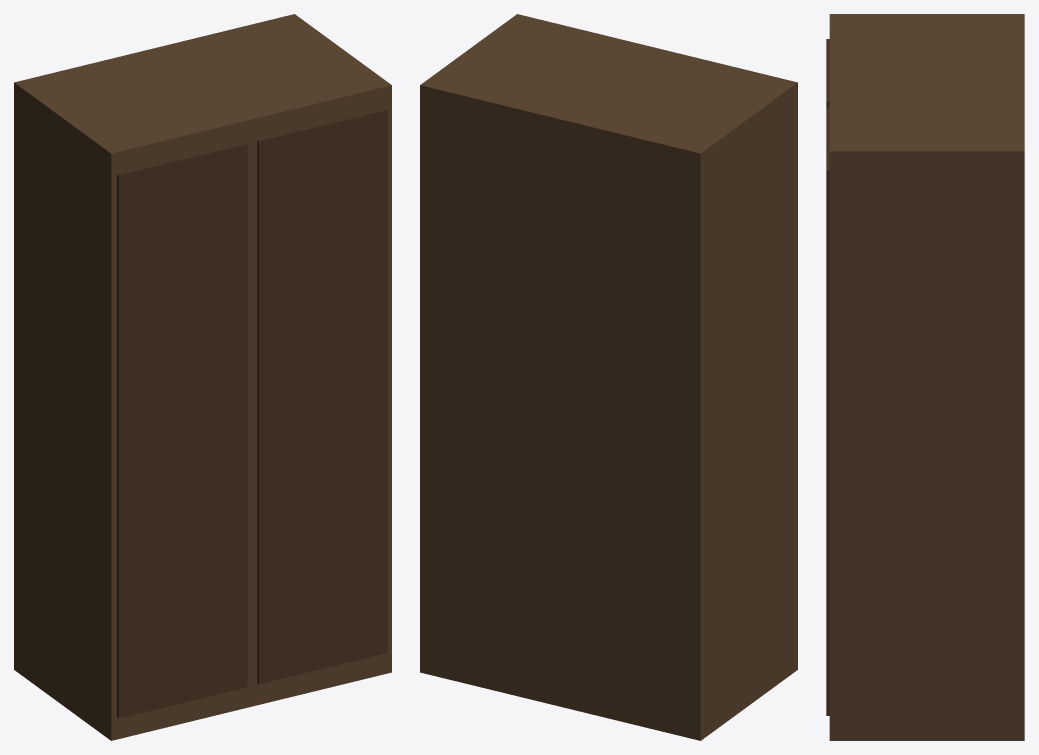
Rendered from wardrobe.gltf.
3 renders of one model, left to right at view 1: azimuth 30°, elevation 25°; view 2: azimuth 150°, elevation 25°; view 3: azimuth 270°, elevation 25°, orthographic.
Size of the model in its own units: 1 by 2 by 0.61.
